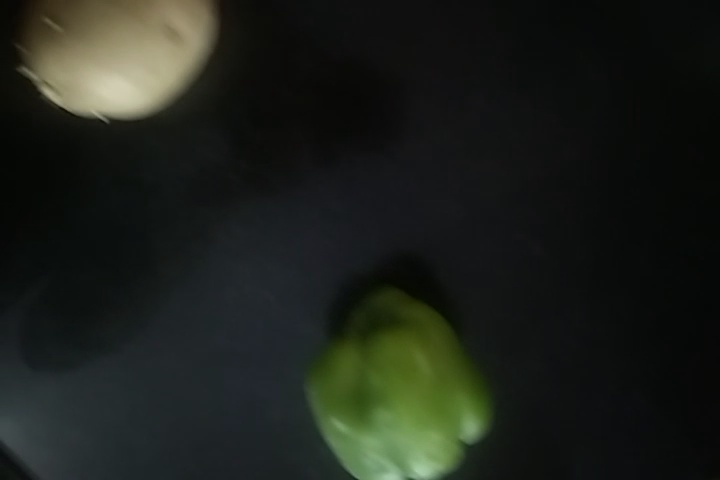capsicum: (297, 293, 500, 480)
potato: (18, 1, 223, 123)
